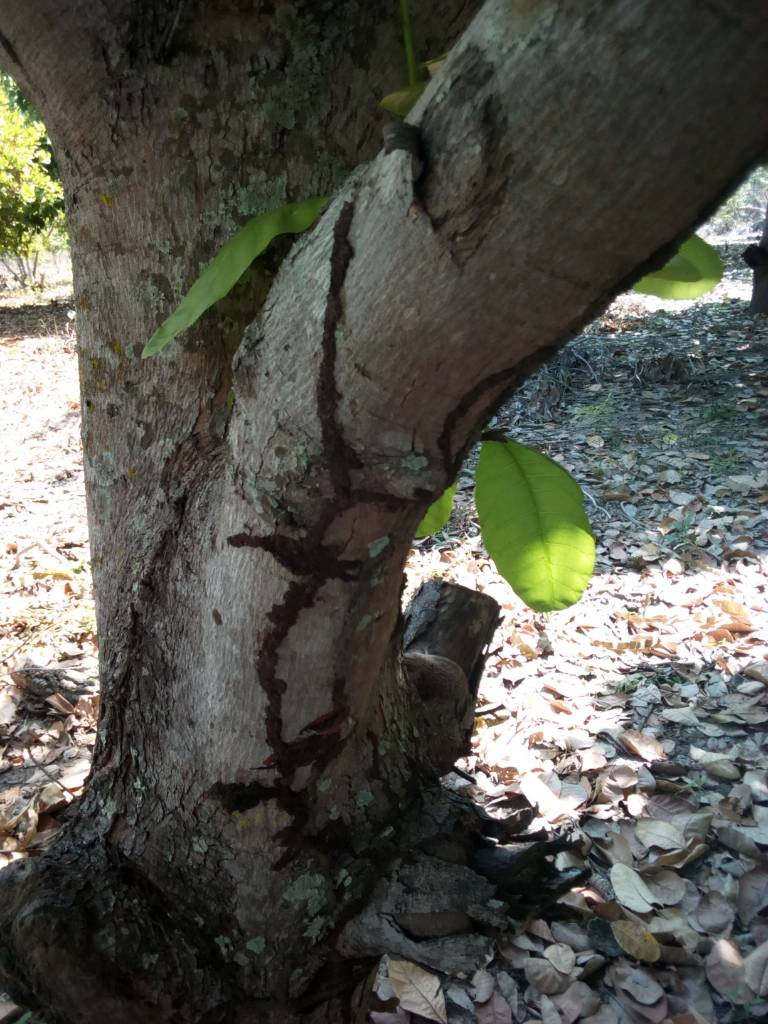Termites: (230, 511, 419, 855), (313, 222, 416, 505)
